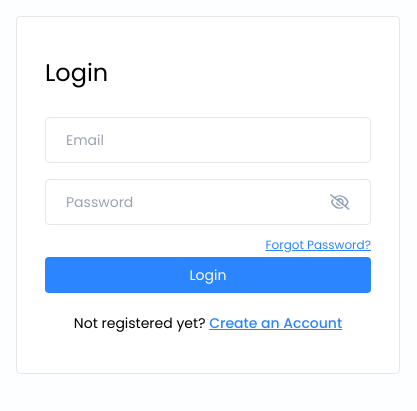
it: Login Component › shows error if password is empty
Type "test@example.com" into the field with placeholder "Email".
click(208, 140); type("test@example.com")  # box [45,117,371,163]
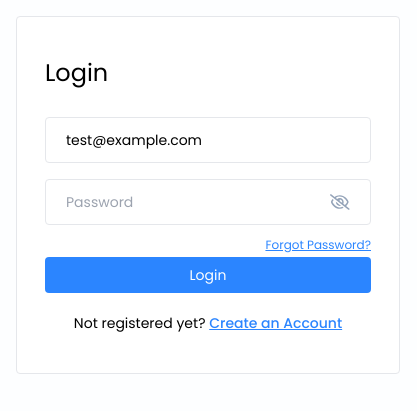
Click the button "Login".
click(208, 275)  # box [45,257,371,293]
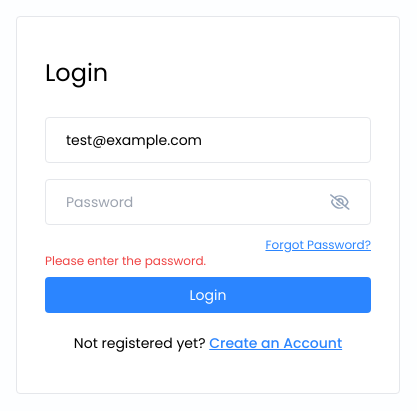
Result: the text "Please enter the password." is shown at [45,252,206,269]
